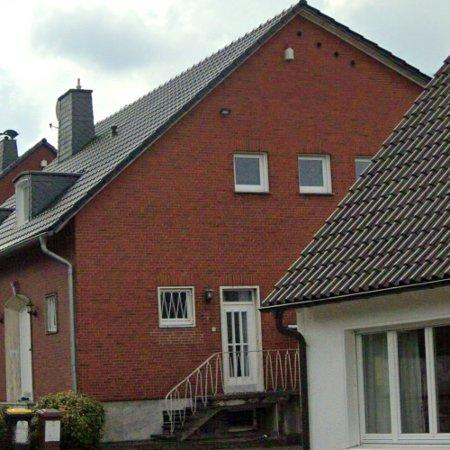chimneys: (56, 79, 94, 162)
stairs: (164, 351, 302, 441)
